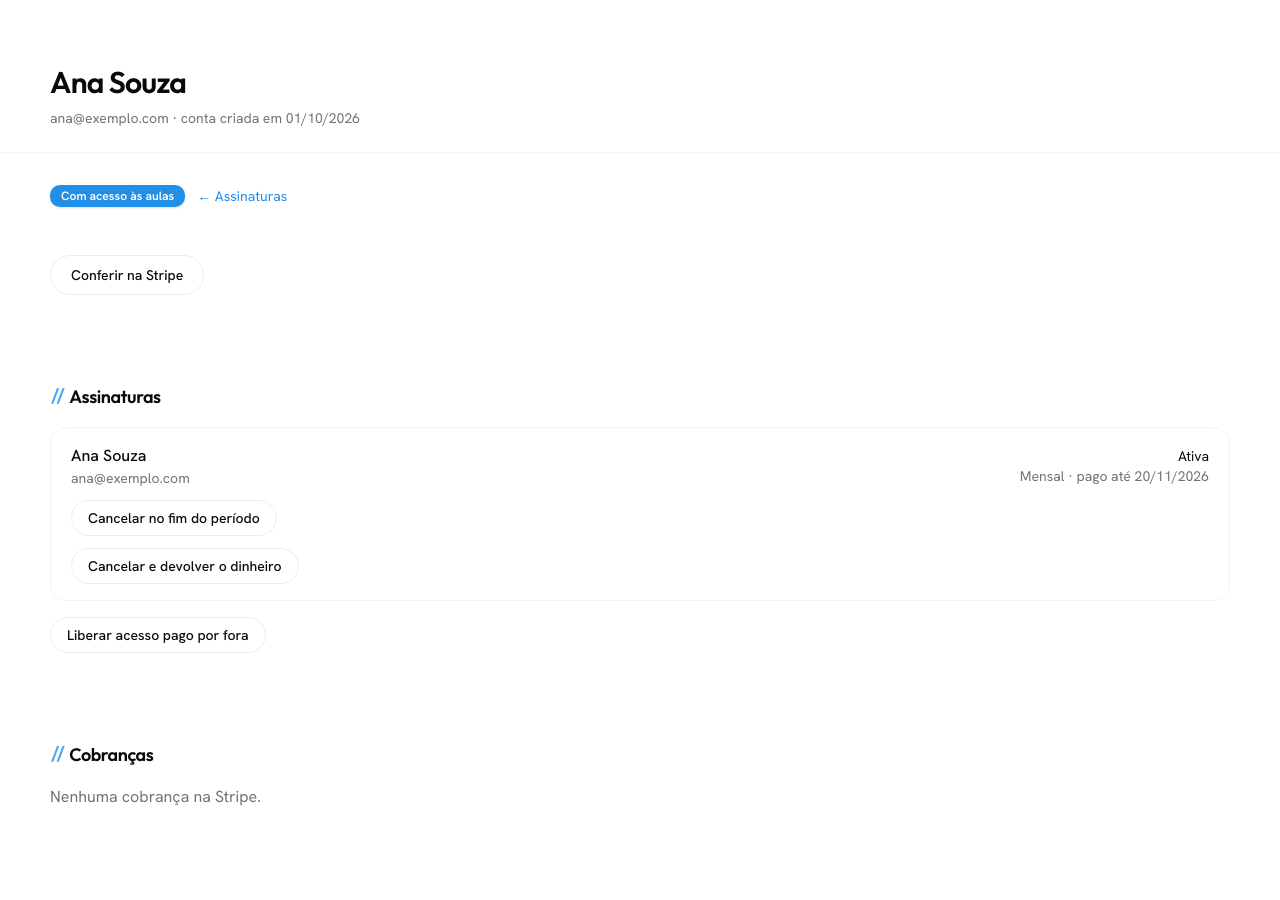
a ficha — as ações (passo 3a) › em dia: 'Cancelar no fim do período' pede confirmação dizendo o efeito, faz, mostra o que a Stripe respondeu e relê a ficha
This screenshot has width=1280, height=900.
Click the button "Cancelar no fim do período".
click(174, 518)  # box [71,500,277,536]
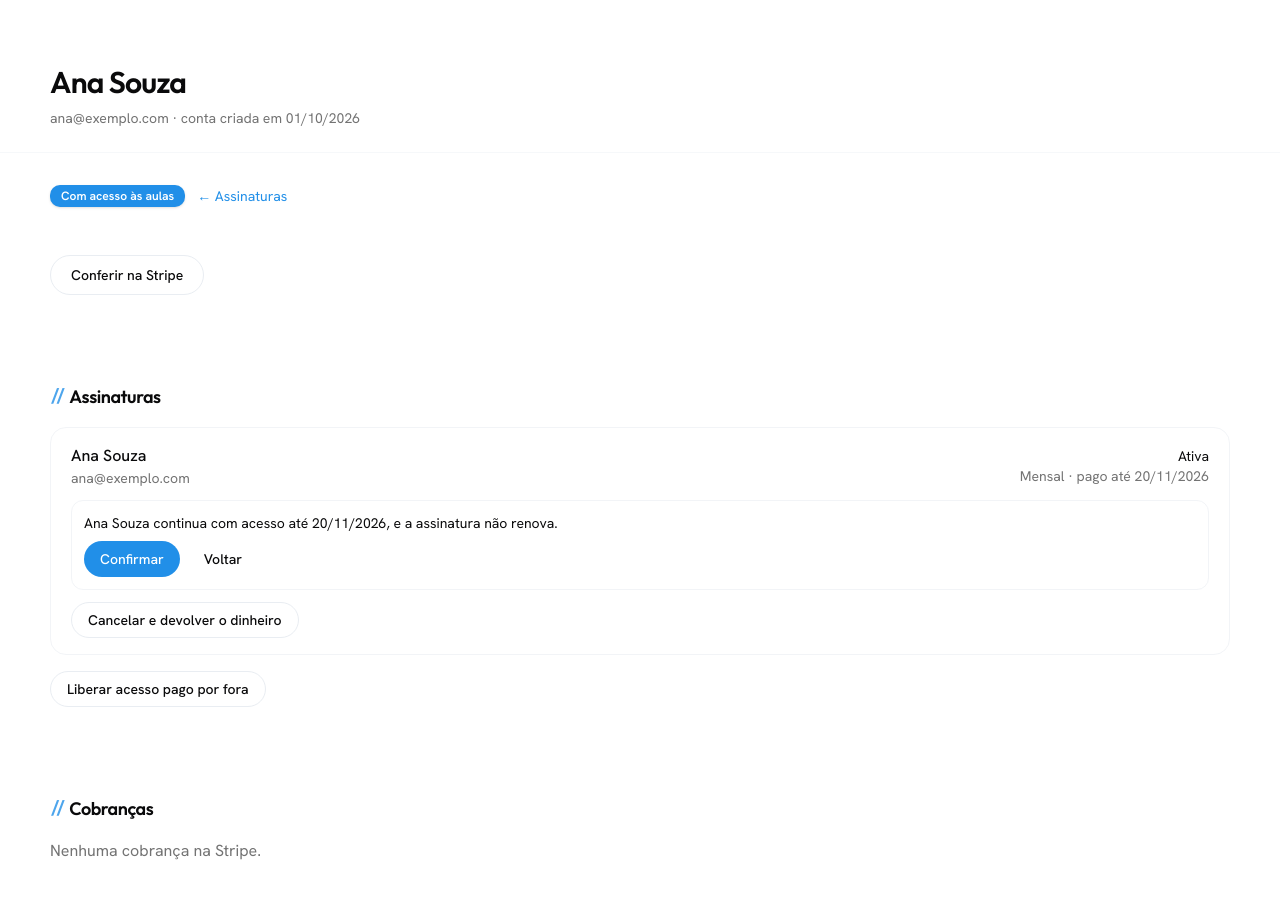
Now the text "Ana Souza continua com acesso até 20/11/2026, e a assinatura não renova." is shown, box [84,514,558,532]
Click the button "Confirmar".
click(132, 559)  # box [84,541,180,577]
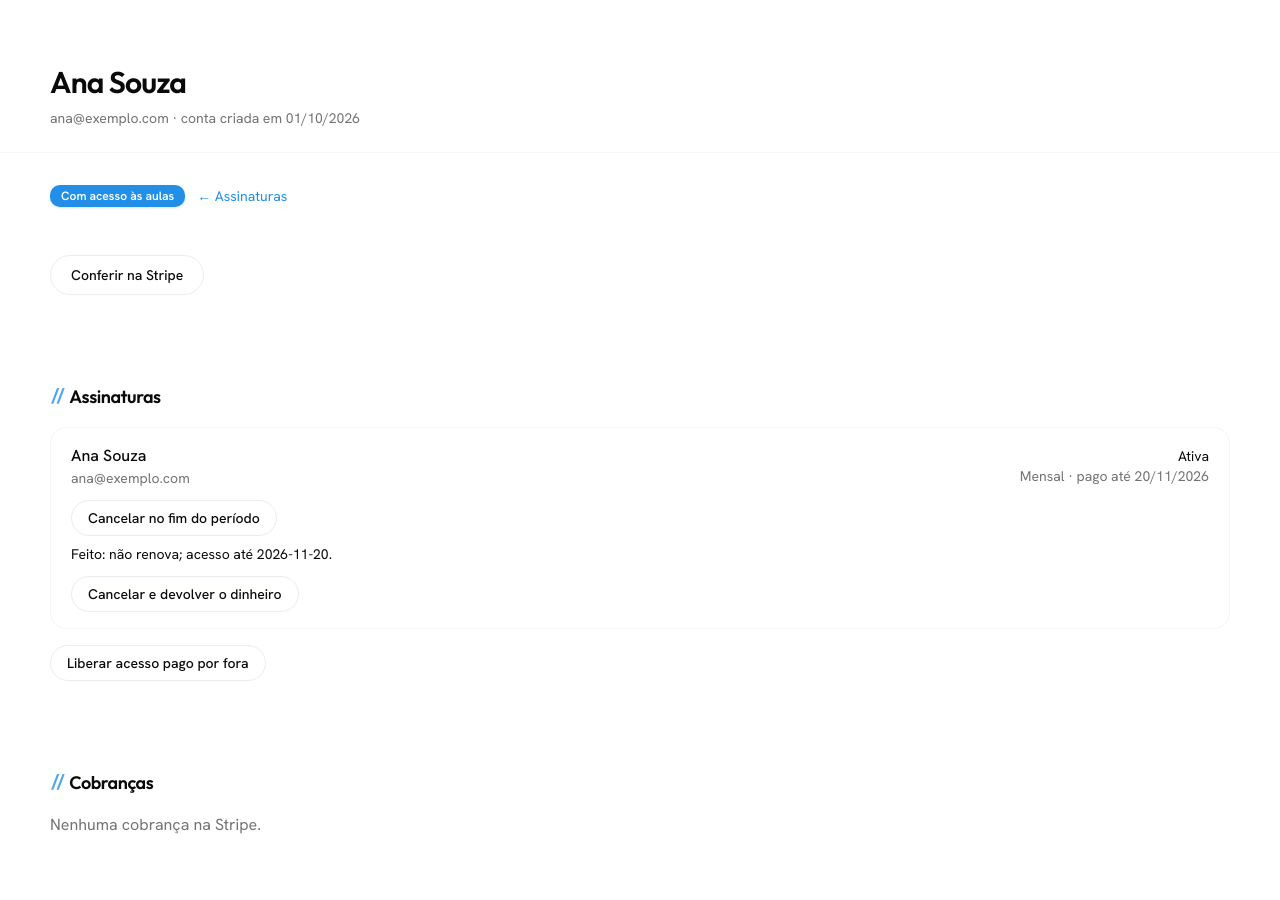
Now the message reads "Feito: não renova; acesso até 2026-11-20.", box [71,545,332,563]
